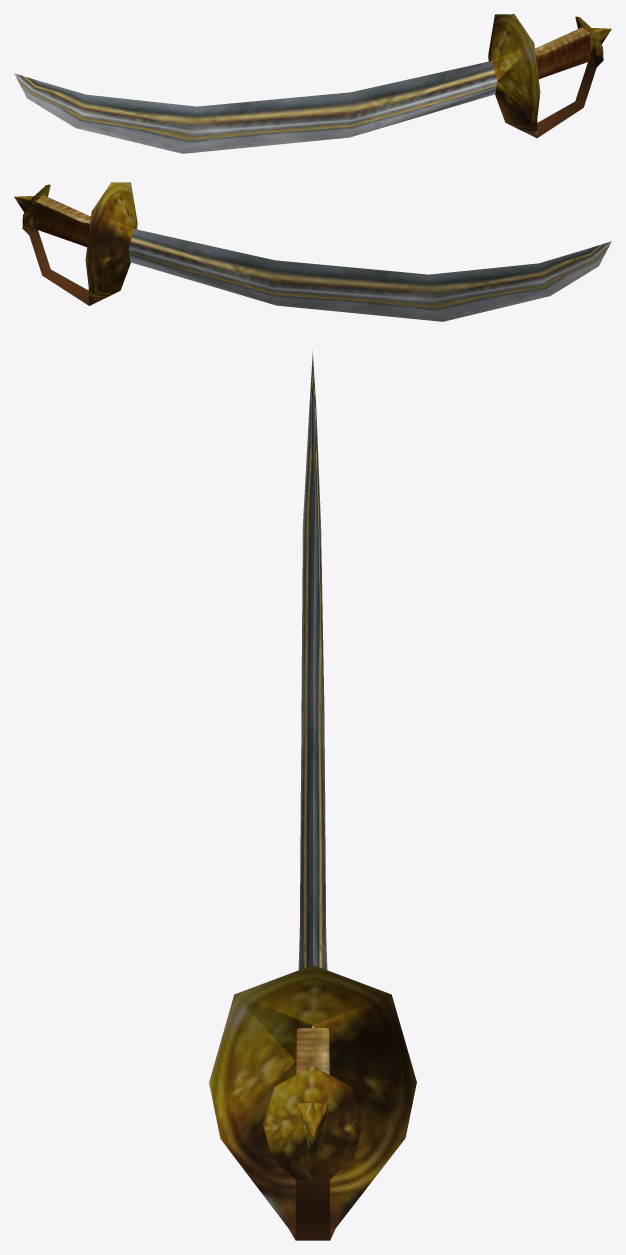
Rendered from shop_bsmith_cutlass_shiny.fbx.
3 renders of one model, top to bottom at view 1: azimuth 30°, elevation 25°; view 2: azimuth 150°, elevation 25°; view 3: azimuth 270°, elevation 25°, orthographic. The views are drawn at different scales.
Visible parts, largest first — view 1: cutlass; view 2: cutlass; view 3: cutlass.
Part boxes in pixels (box(x1,y1,x2,y2)): cutlass: box(14, 14, 611, 153); cutlass: box(14, 182, 611, 321); cutlass: box(209, 351, 416, 1240).
Size of the model in its own units: 325 by 96.96 by 48.9.
1 material, 1 textured.
